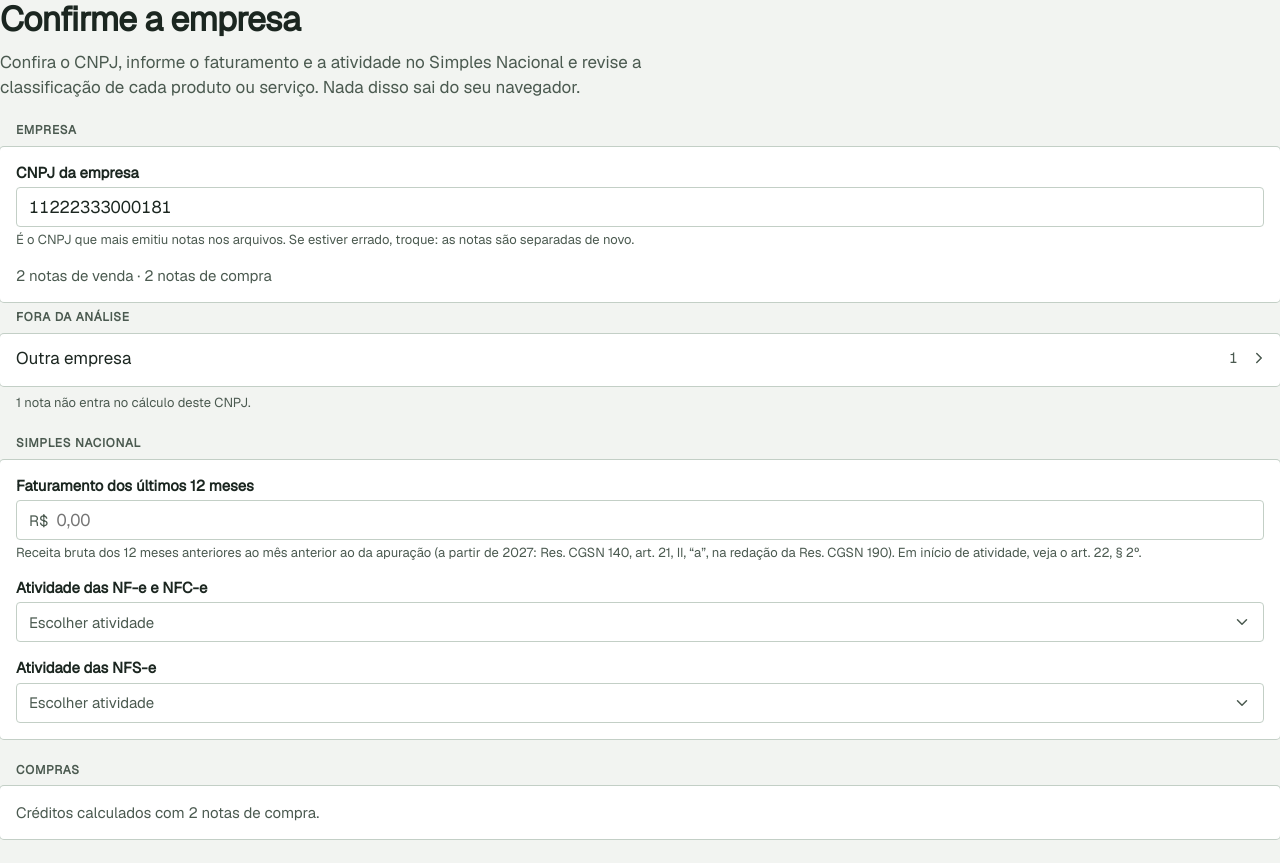
Confirmar — faturamento (RBT12) › 6ª faixa mostra a nota da interpretação do teto de 5% do ISS
Click the button named "NFS-e" at (92, 703), box [16,683,1264,723]
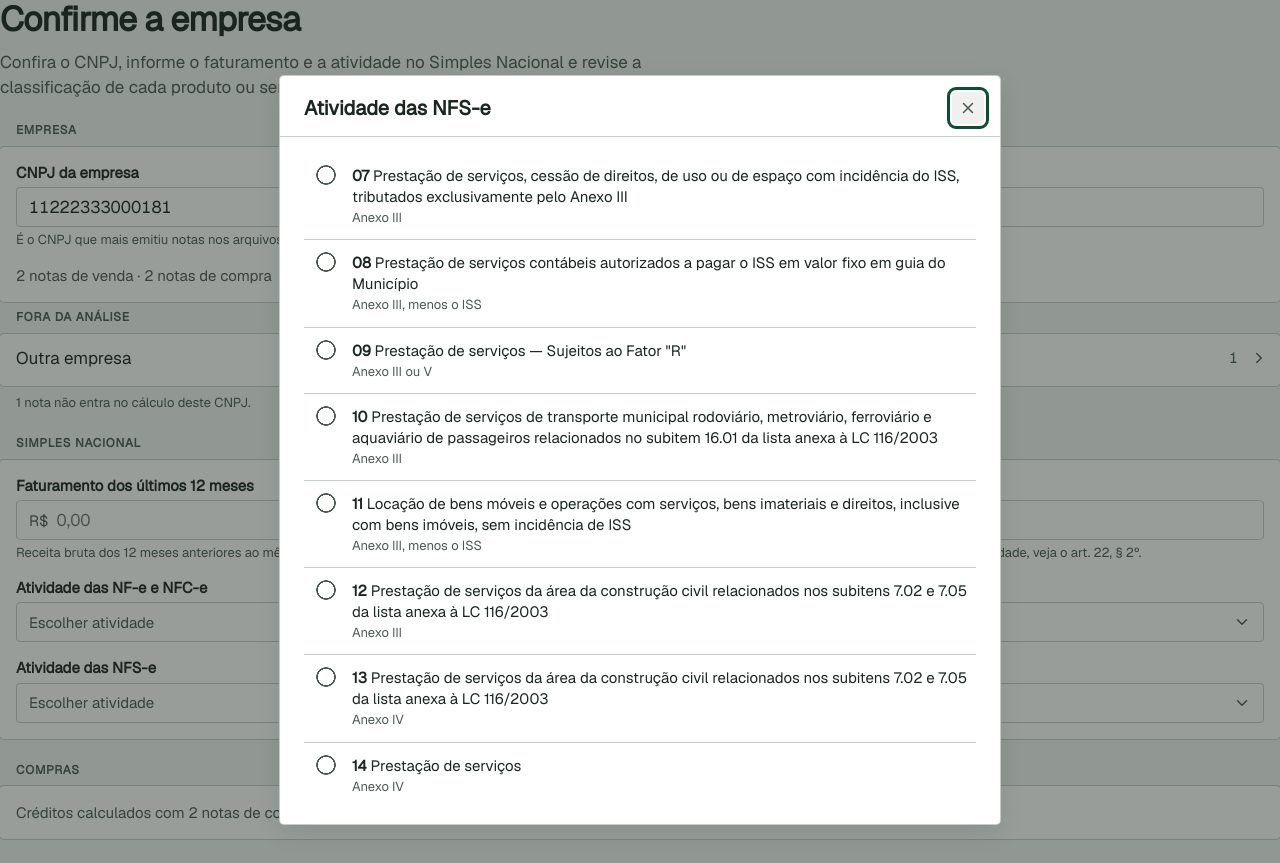
Click the radio button labelled "14 Prestação de serviços Anexo IV" at (326, 765), box [304,743,348,787]
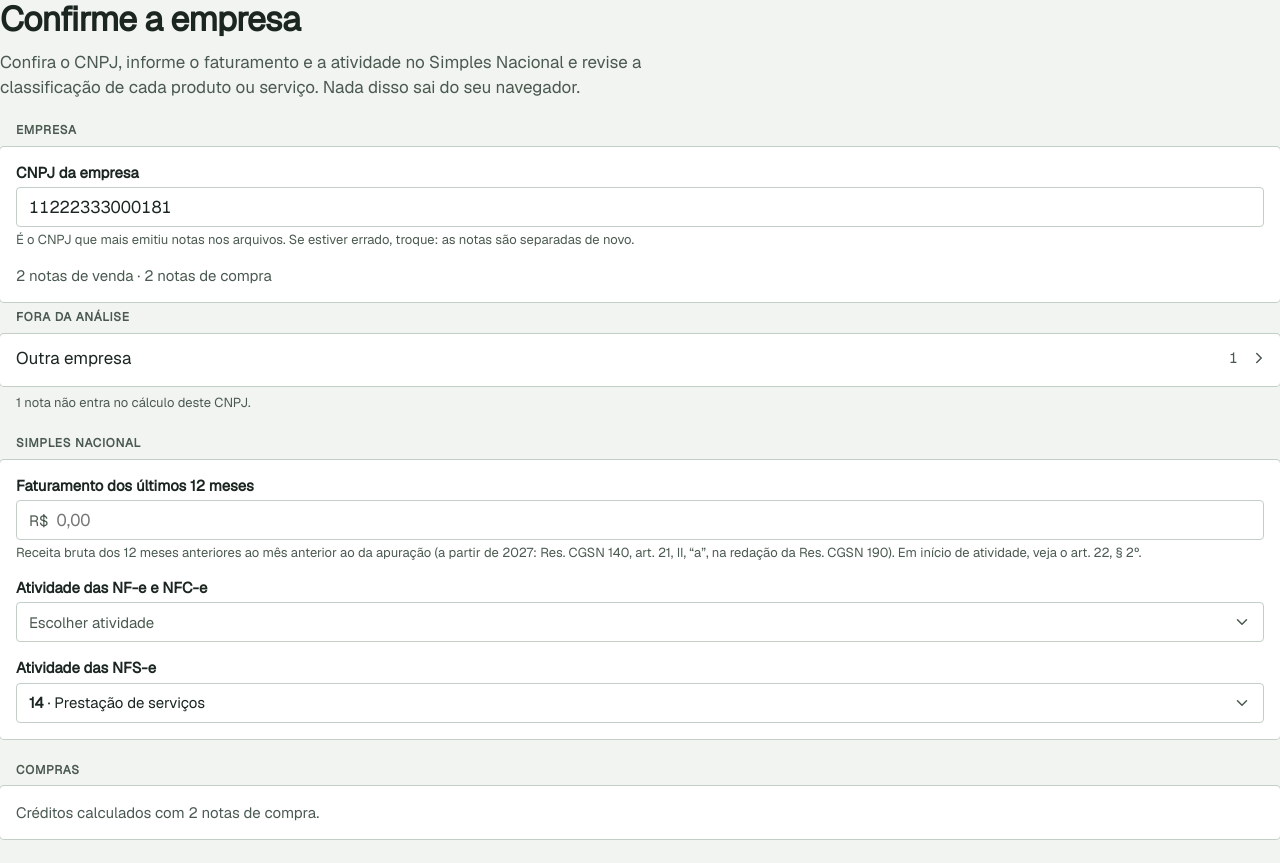
Type "4.000.000,00" into the field labelled "Faturamento dos últimos 12 meses" at (654, 520), box [56,501,1251,539]
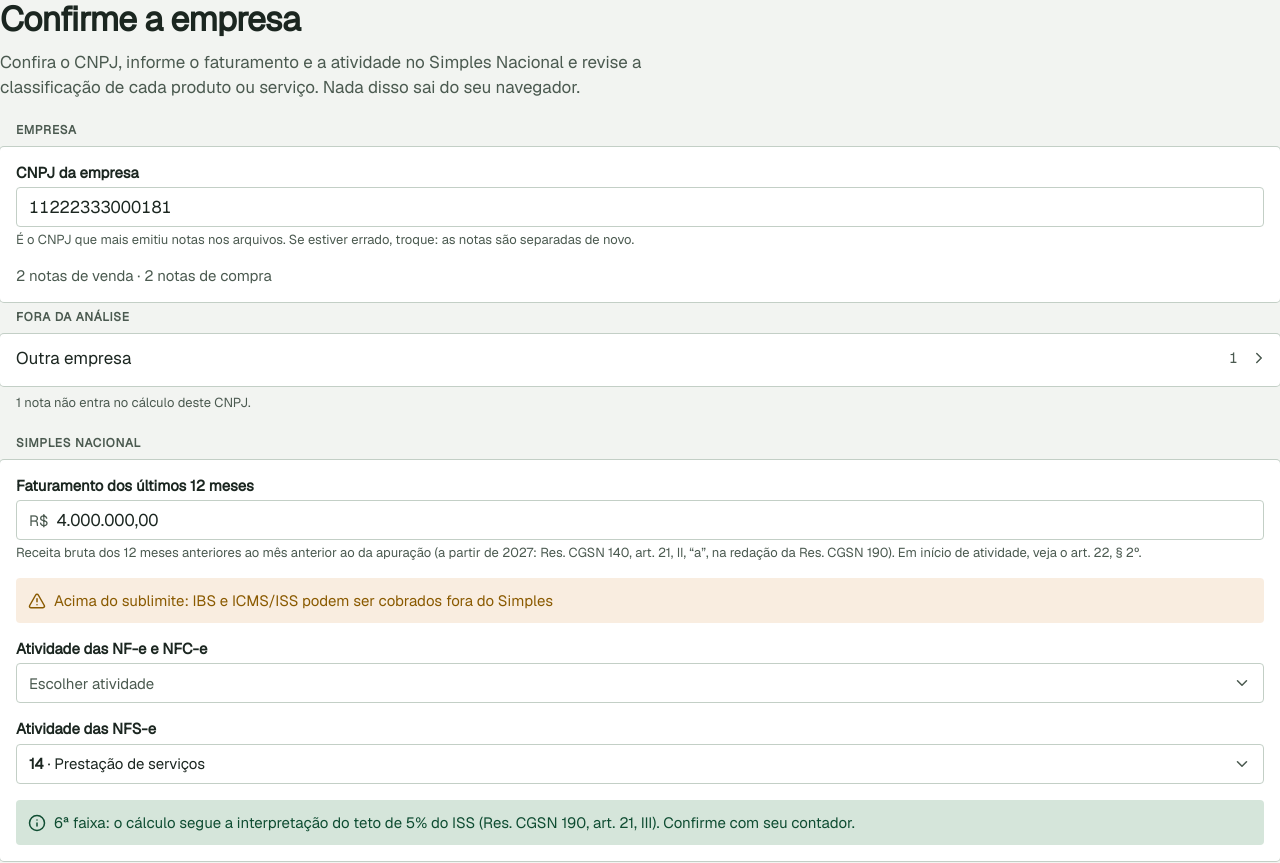
Check: the text "6ª faixa: o cálculo segue a interpretação do teto de 5% do ISS (Res. CGSN 190, art. 21, III). Confirme com seu contador." is shown, box [54,813,855,832]
